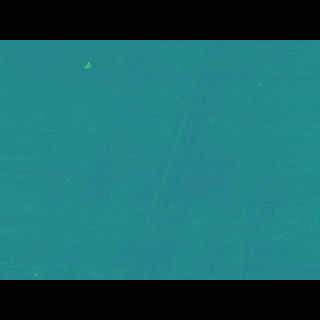Loch: (105, 74, 319, 249)
